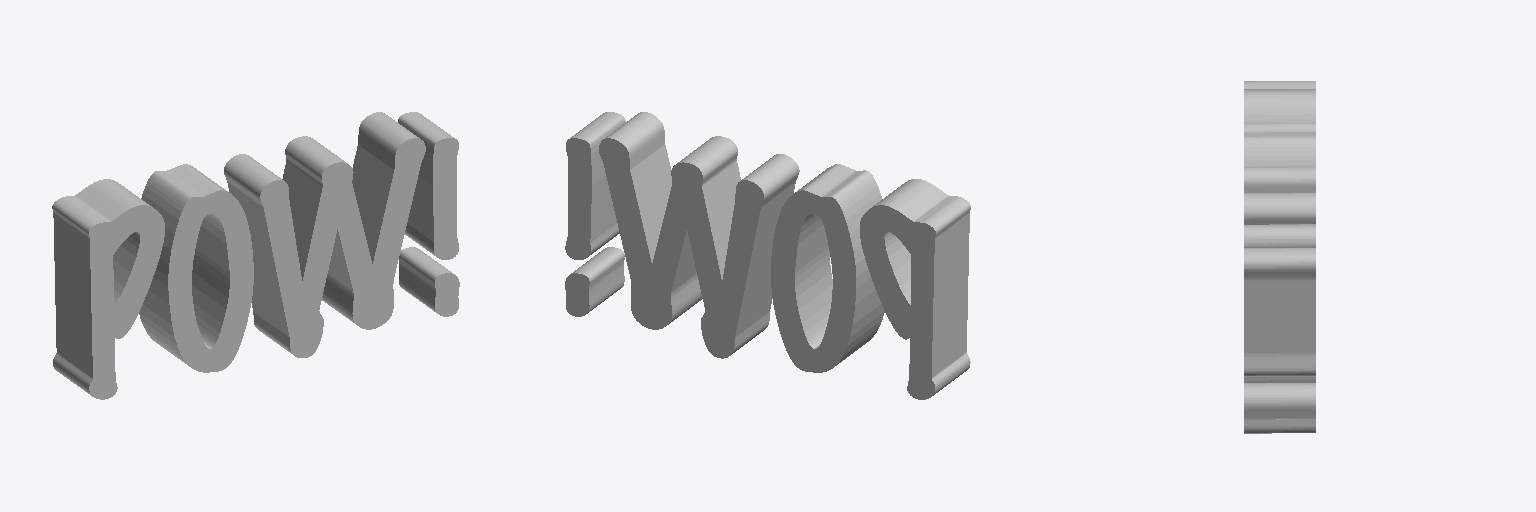
File: POW.obj
3 views of the same model, side by side, from view 1: azimuth 30°, elevation 25°; view 2: azimuth 150°, elevation 25°; view 3: azimuth 270°, elevation 25° (orthographic).
Parts seen in each view (by area): view 1: Extrude; view 2: Extrude; view 3: Extrude.
Part boxes in pixels (bbox=[...]): Extrude: bbox=[52, 112, 459, 399]; Extrude: bbox=[565, 112, 970, 399]; Extrude: bbox=[1244, 81, 1315, 433].
Bounding box in the file's own units: 1.8 × 0.895 × 0.2999.